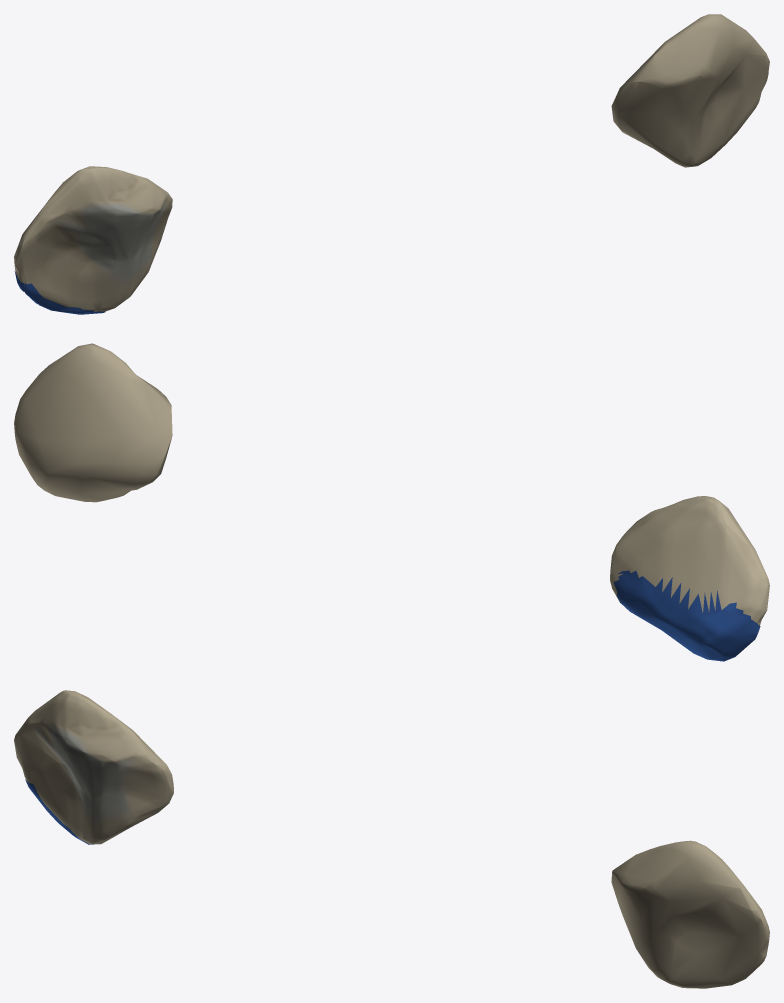
Rendered from patella.glb.
3 views of the same model, one above another, from view 1: azimuth 30°, elevation 25°; view 2: azimuth 150°, elevation 25°; view 3: azimuth 330°, elevation 25° (orthographic).
Parts seen in each view (by area): view 1: FJ3275, FJ3381, patella__facies-articularis, patella__basis, patella__apex, insertio__basis__FJ1433; view 2: FJ3275, FJ3381, insertio__basis__FJ1433, patella__apex; view 3: FJ3275, FJ3381, patella__facies-articularis, patella__basis, patella__apex.
Part boxes in pixels (x1,y1,x2,y2): FJ3275: (611,14,769,167); FJ3381: (14,175,172,284); patella__facies-articularis: (55,203,165,282); patella__basis: (25,259,151,311); patella__apex: (33,166,163,227); insertio__basis__FJ1433: (14,271,105,314); FJ3275: (14,343,172,502); FJ3381: (610,505,769,626); insertio__basis__FJ1433: (613,570,760,661); patella__apex: (633,496,760,564); FJ3275: (611,840,769,988); FJ3381: (14,706,173,818); patella__facies-articularis: (33,726,133,823); patella__basis: (27,775,160,844); patella__apex: (23,690,150,750).
Bounding box in the file's own units: 205 × 39.98 × 22.47.
